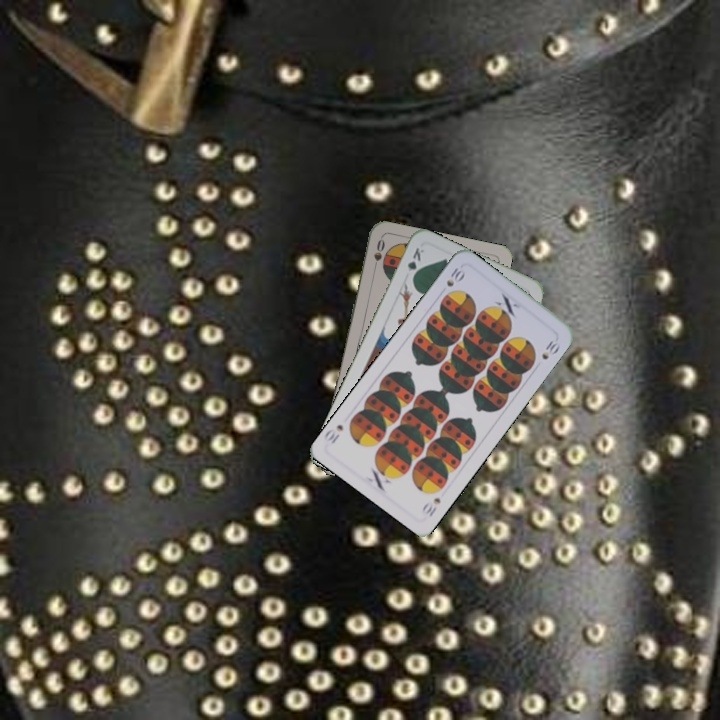GK: (403, 243, 427, 283)
S10: (442, 263, 468, 289), (418, 494, 443, 519)
SO: (369, 235, 387, 275)
